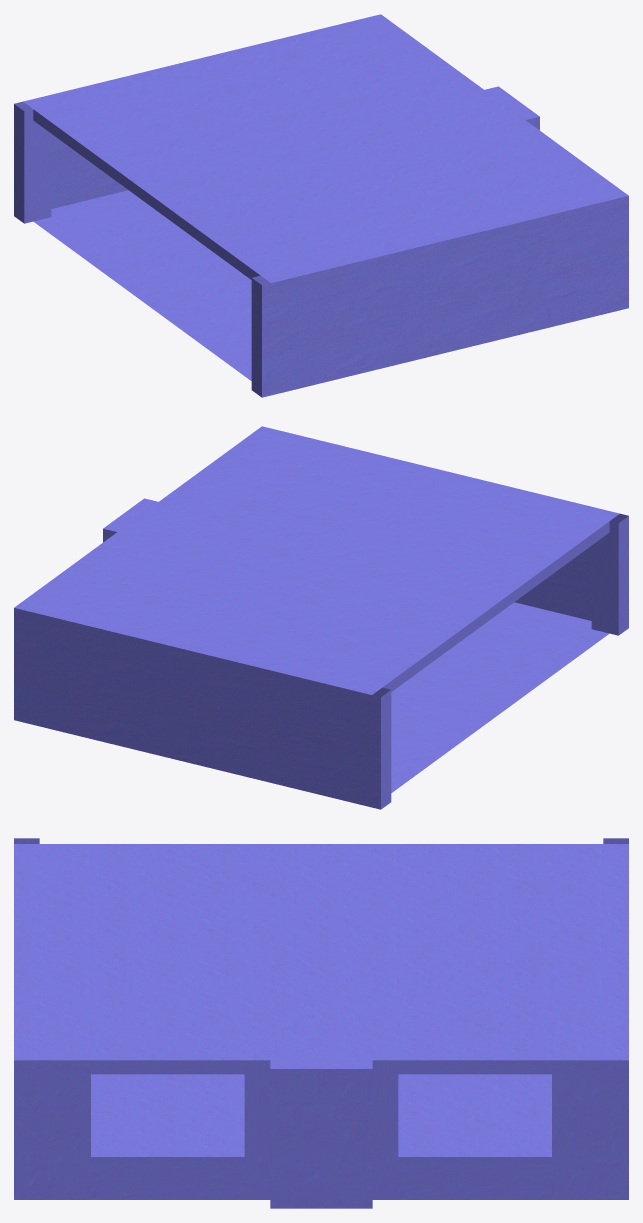
File: Combined Mesh.fbx
3 views of the same model, one above another, from view 1: azimuth 30°, elevation 25°; view 2: azimuth 150°, elevation 25°; view 3: azimuth 270°, elevation 25° (orthographic). The views are drawn at different scales.
Parts seen in each view (by area): view 1: Combined_Mesh; view 2: Combined_Mesh; view 3: Combined_Mesh.
Boxes of the visible parts, x1,y1,x2,y2 form: Combined_Mesh: (14,14,628,397); Combined_Mesh: (14,426,628,809); Combined_Mesh: (14,838,628,1208).
Bounding box in the file's own units: 1065 × 300 × 1200.
1 material, 1 textured.
